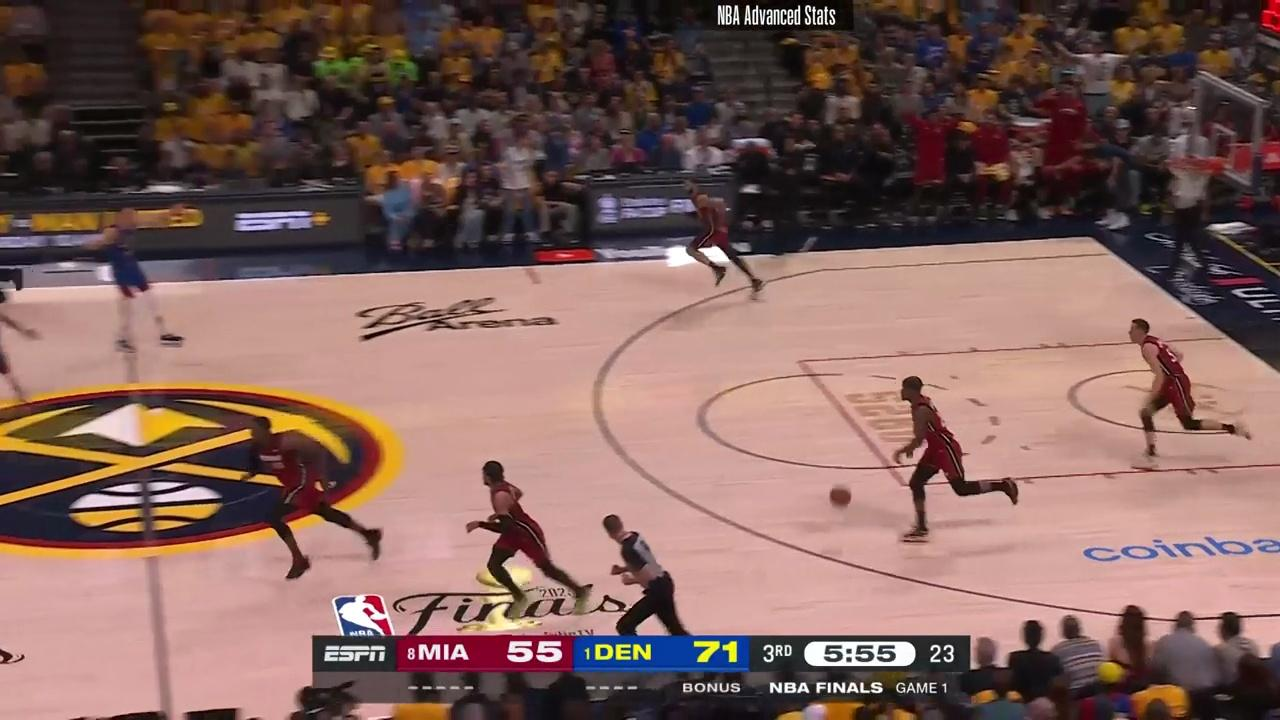Backboard: (1191, 78, 1269, 185)
Ball: (828, 485, 853, 509)
Basket: (1170, 151, 1219, 199)
Person: (886, 371, 1028, 544), (244, 416, 385, 582), (462, 454, 591, 605), (81, 188, 191, 356), (1128, 318, 1250, 466), (680, 181, 768, 304), (0, 253, 41, 413)
Referee: (604, 508, 685, 632), (1166, 177, 1217, 268)
Shot Clock: (1248, 0, 1276, 62)
